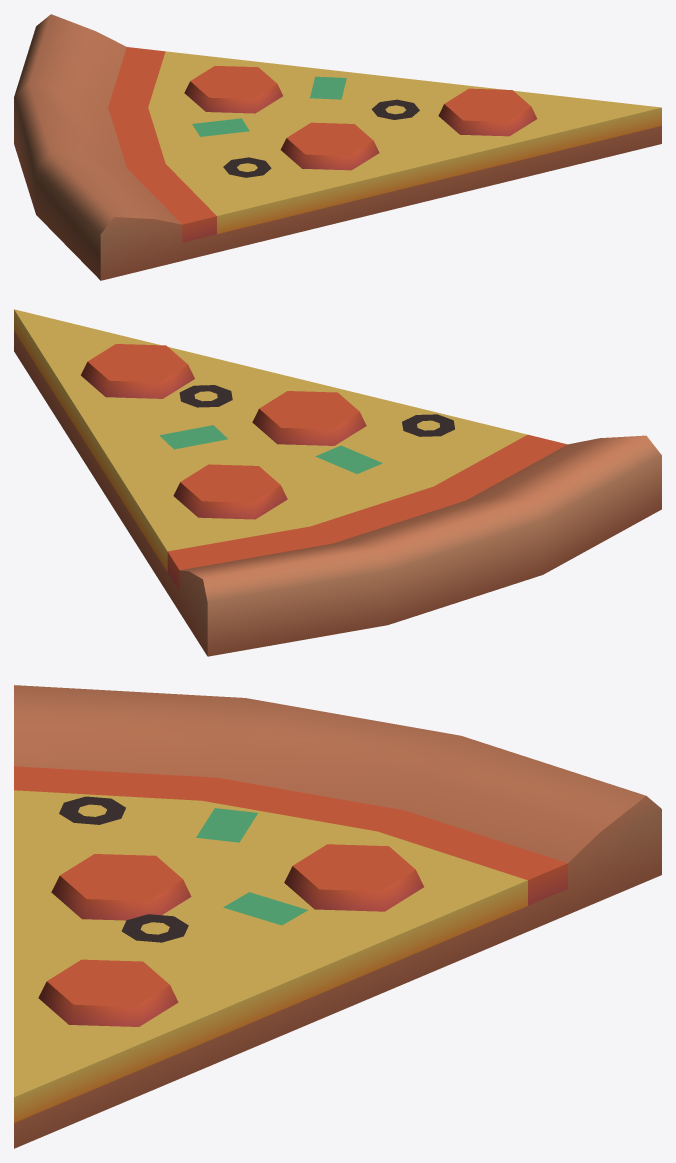
The model's file is pizza-slice.glb.
3 renders of one model, top to bottom at view 1: azimuth 30°, elevation 25°; view 2: azimuth 150°, elevation 25°; view 3: azimuth 270°, elevation 25°, orthographic. The views are drawn at different scales.
Parts seen in each view (by area): view 1: pizza-slice; view 2: pizza-slice; view 3: pizza-slice.
Boxes of the visible parts, x1=… form: pizza-slice: x1=14, y1=14, x2=661, y2=280; pizza-slice: x1=14, y1=309, x2=661, y2=656; pizza-slice: x1=14, y1=685, x2=661, y2=1148.
Size of the model in its own units: 0.32 by 0.033 by 0.2263.
